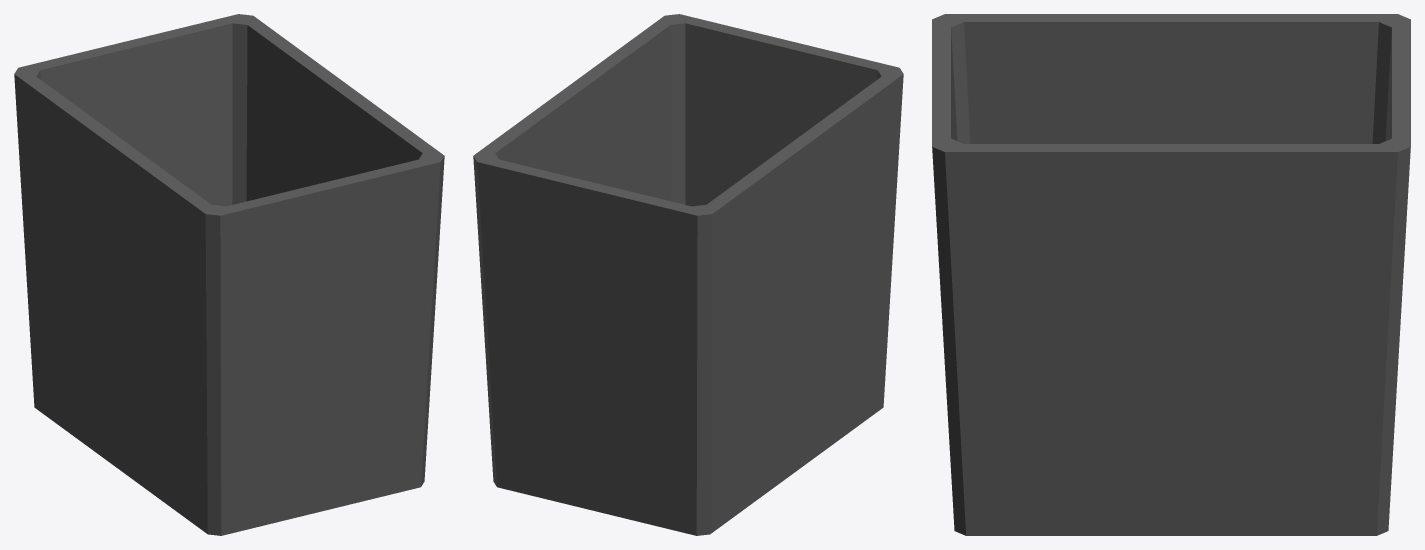
File: Trash Can FBX.fbx
3 renders of one model, left to right at view 1: azimuth 30°, elevation 25°; view 2: azimuth 150°, elevation 25°; view 3: azimuth 270°, elevation 25°, orthographic. The views are drawn at different scales.
Parts seen in each view (by area): view 1: Trash_can; view 2: Trash_can; view 3: Trash_can.
Part boxes in pixels (left/top/right/bottom): Trash_can: left=14, top=14, right=444, bottom=535; Trash_can: left=473, top=14, right=903, bottom=535; Trash_can: left=932, top=14, right=1410, bottom=535.
Size of the model in its own units: 32.96 by 43.43 by 48.28.
Materials: 1 (1 with a texture image).
